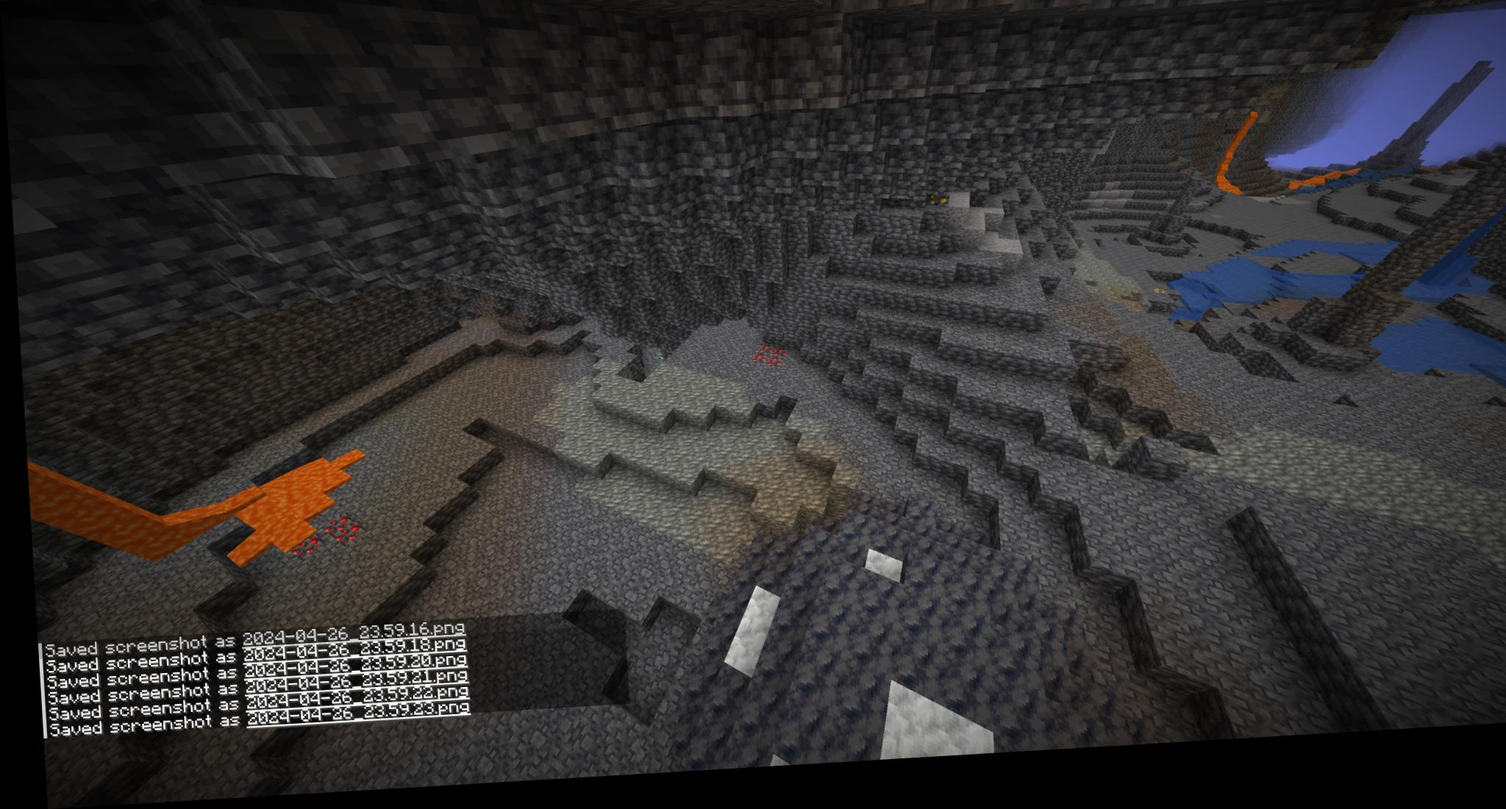gold ore: (919, 195, 954, 224)
redstone ore: (287, 519, 356, 566), (746, 352, 783, 375)
